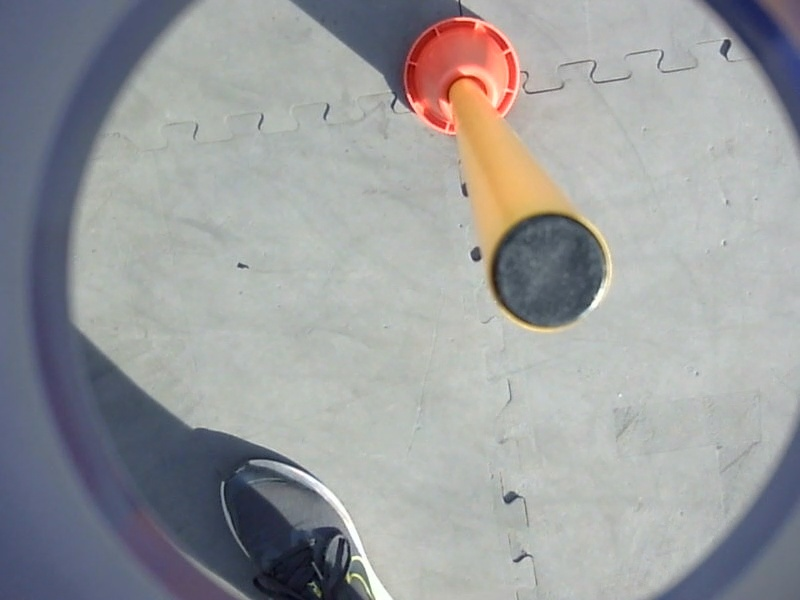tip: (484, 205, 618, 339)
